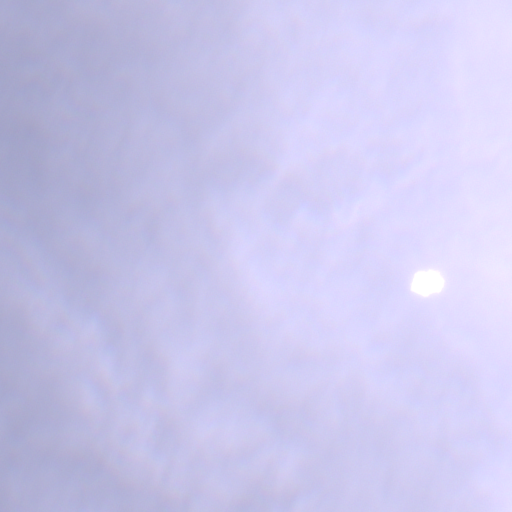Iceberg: (411, 270, 443, 295)
